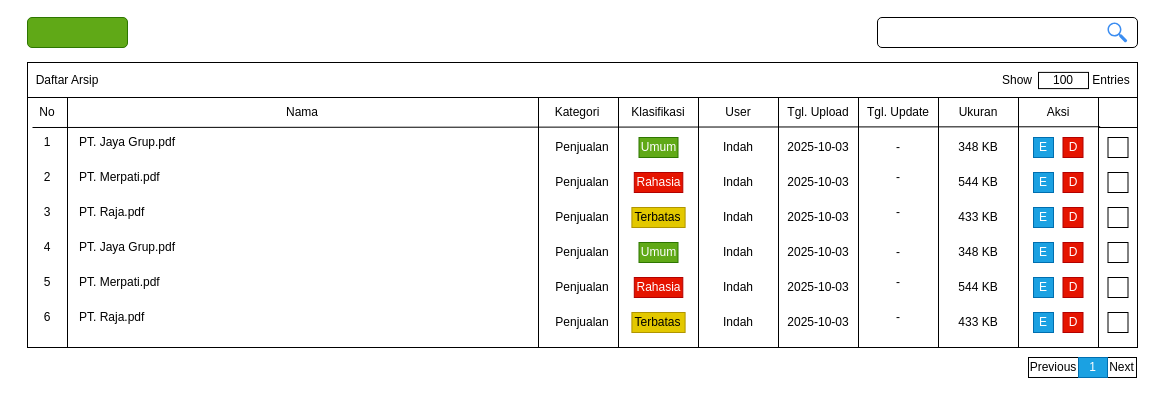
This 1170x395 diagram has some shape labels left out. The shapes that lost their labels are listed below. From the top down, each one's centre as x and y in pixels, then its label:
At (77,32): "Tambah Arsip +".
At (1118,112): "Pilih".
